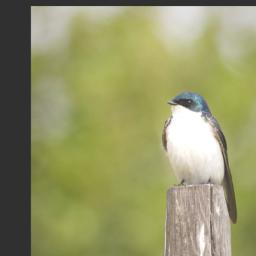Swallow: (159, 86, 238, 225)
